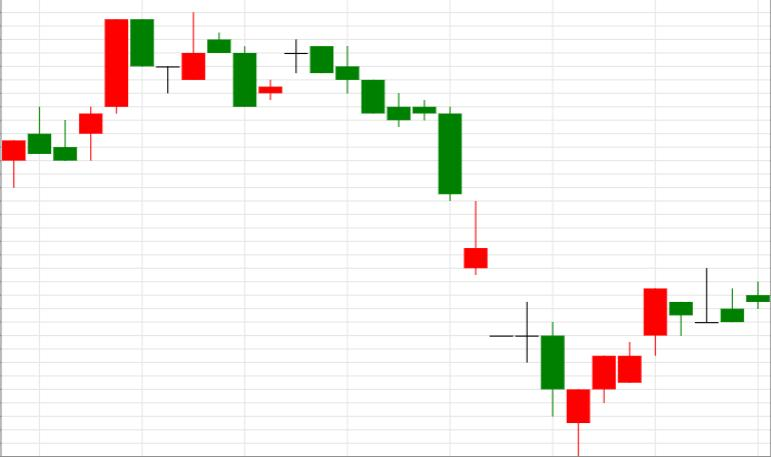hammer_rise: (310, 46, 591, 456)
